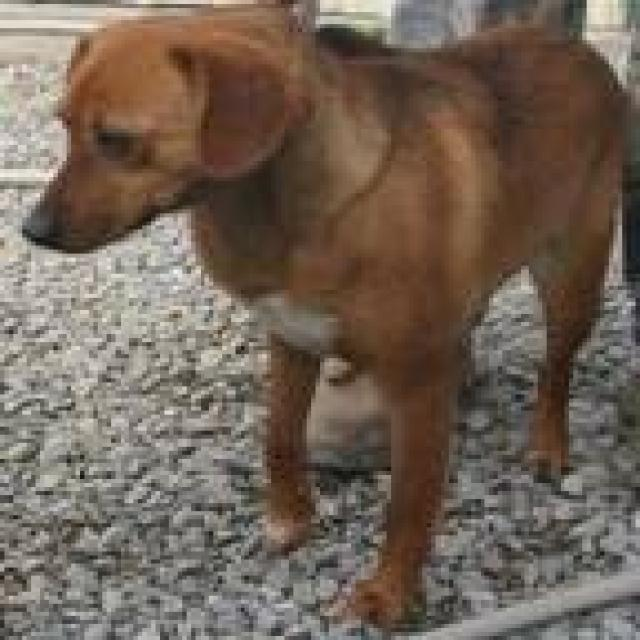dog: (18, 0, 636, 628)
